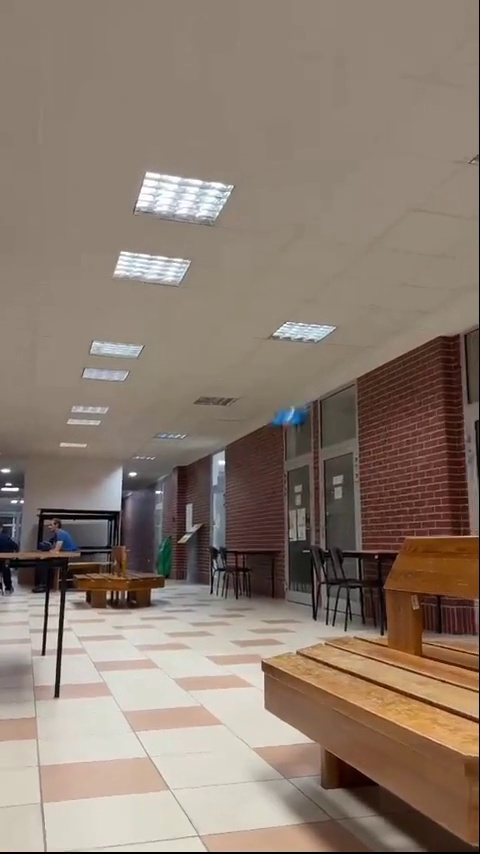drone: (268, 405, 307, 434)
no vest: (42, 511, 75, 565)
